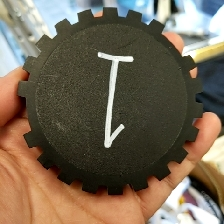gear: (16, 6, 204, 196)
missing: (147, 17, 197, 71), (17, 79, 37, 150)
